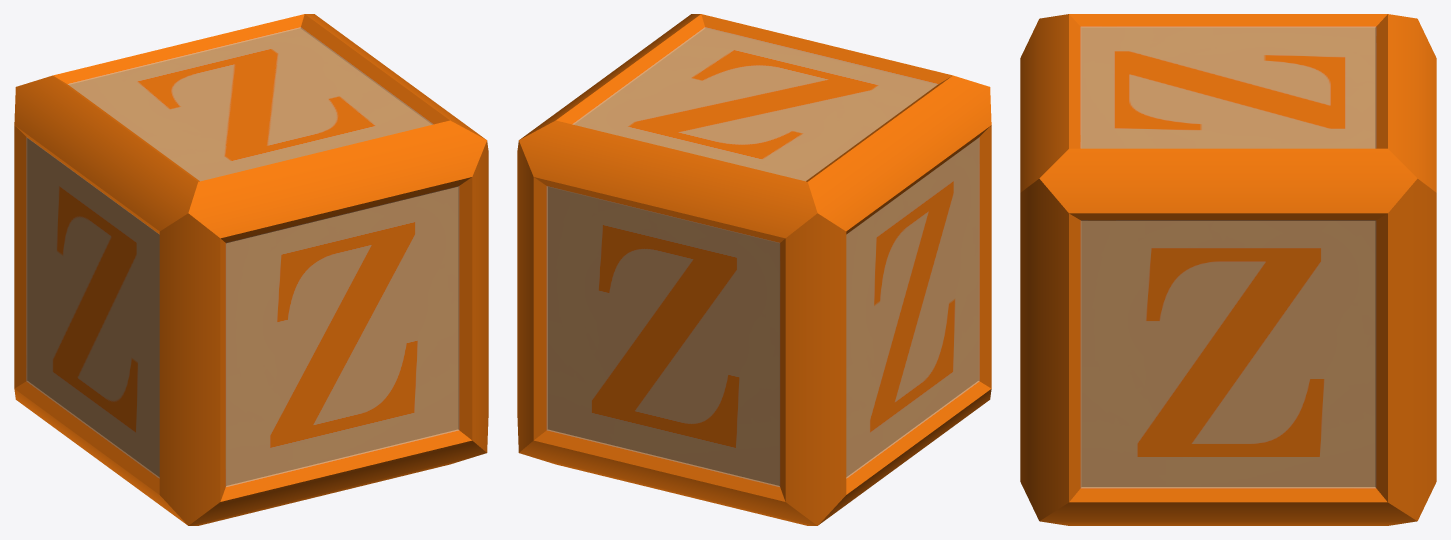
The picture shows the model from 3 angles, left to right: view 1: azimuth 30°, elevation 25°; view 2: azimuth 150°, elevation 25°; view 3: azimuth 270°, elevation 25°; orthographic projection. The views are drawn at different scales.
Visible parts, largest first — view 1: pCube1; view 2: pCube1; view 3: pCube1.
Boxes of the visible parts, x1,y1,x2,y2 form: pCube1: (14,14,488,525); pCube1: (517,14,991,525); pCube1: (1020,14,1436,525).
Size of the model in its own units: 0.4114 by 0.4114 by 0.4114.
Materials: 1 (1 with a texture image).
